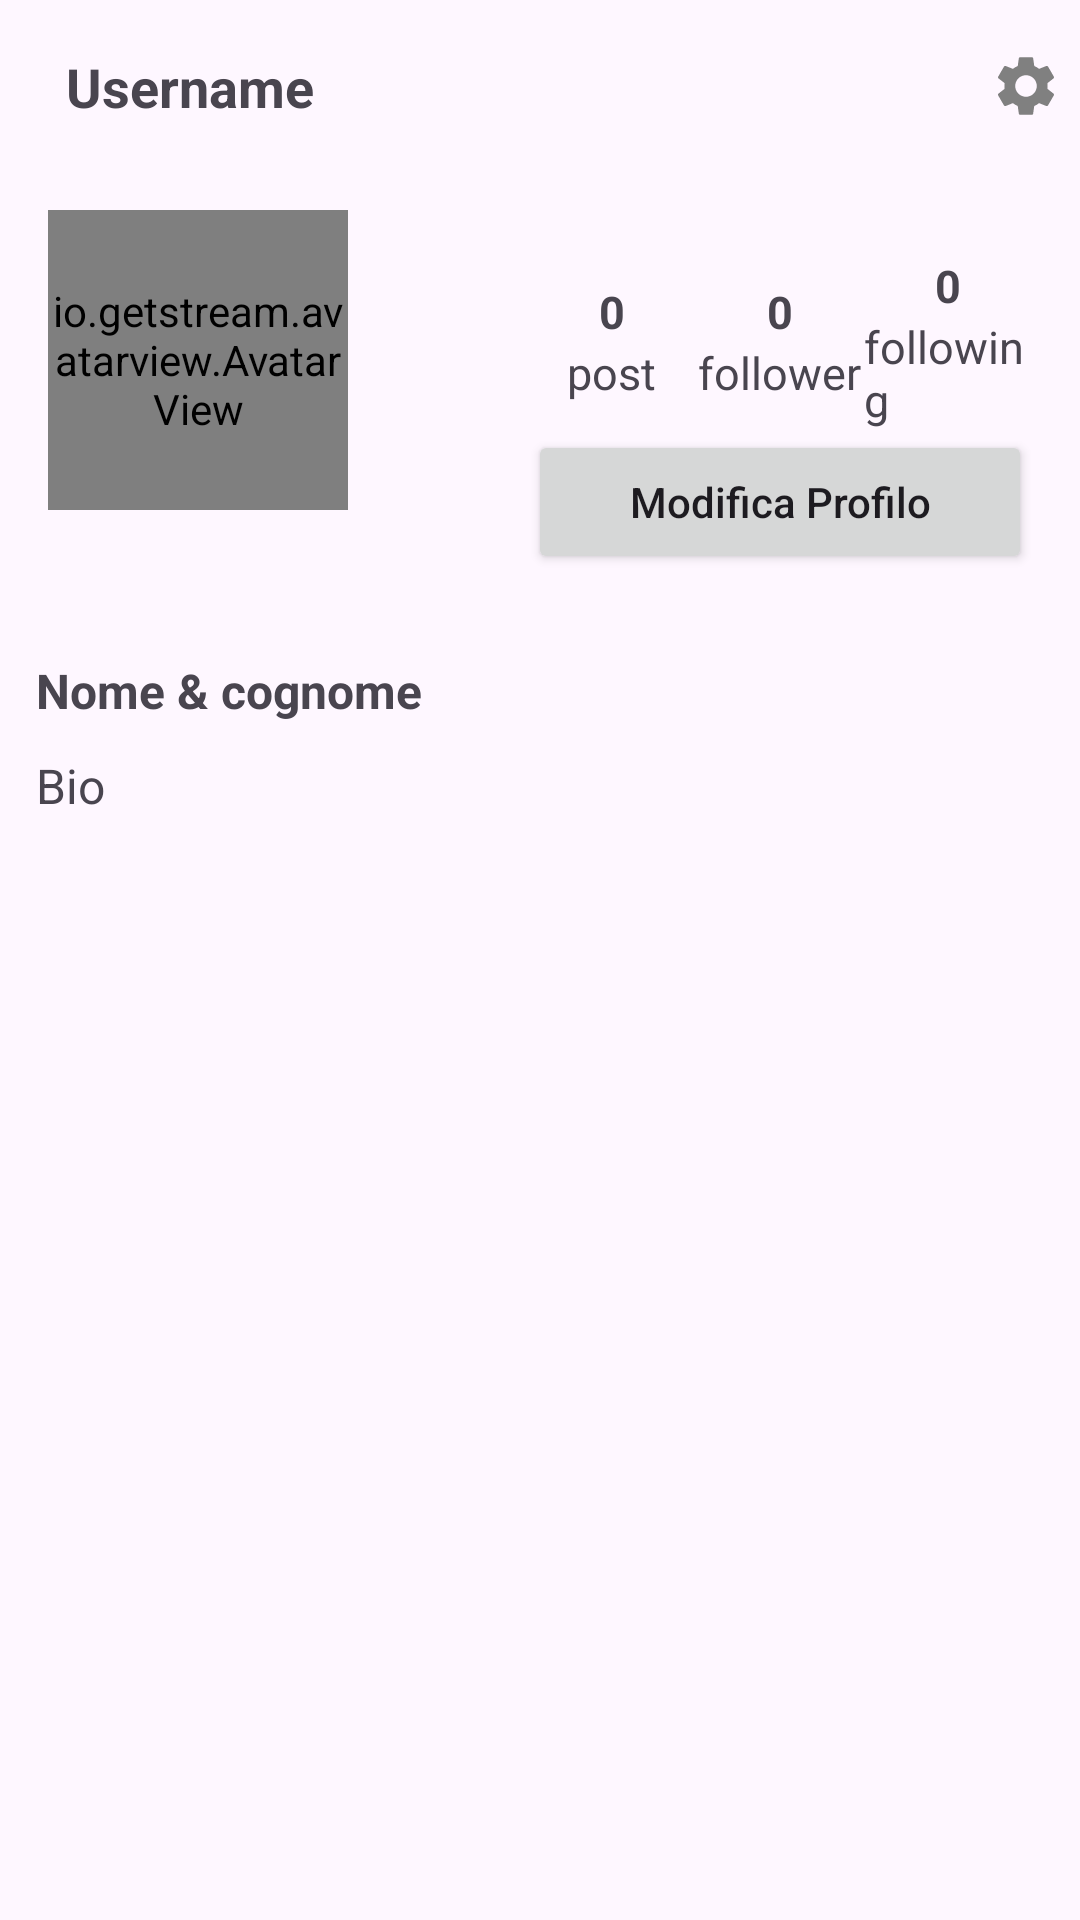

Icons on this 1080 × 1920 Android screen, each with its box as (x1, y1, x2, y2):
settings: (998, 57, 1054, 115)
